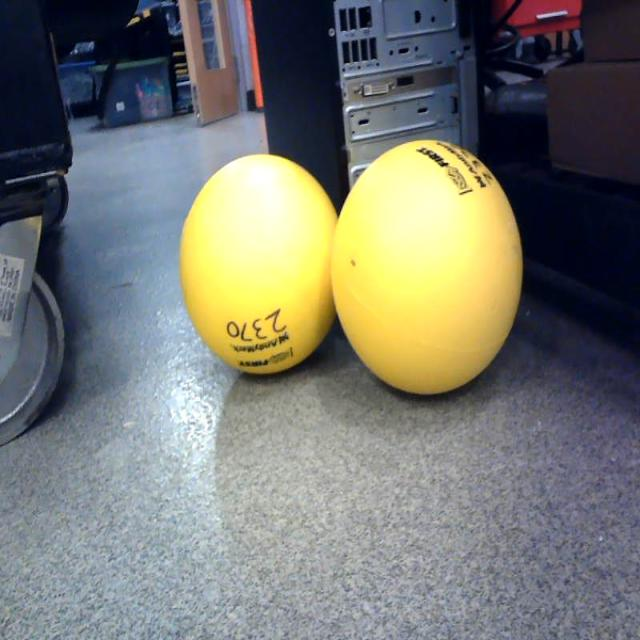Fuel: (332, 138, 524, 396), (178, 153, 341, 375)
